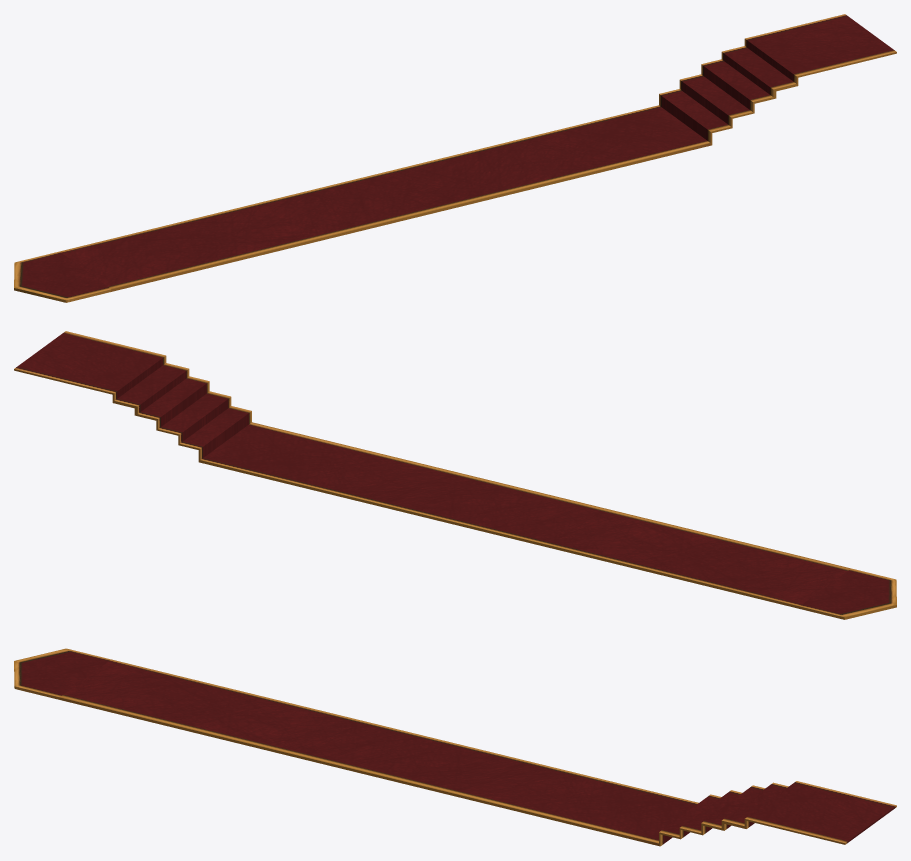
File: BD_Carpet.fbx
3 views of the same model, one above another, from view 1: azimuth 30°, elevation 25°; view 2: azimuth 150°, elevation 25°; view 3: azimuth 330°, elevation 25° (orthographic).
Visible parts, largest first — view 1: BD_Carpet; view 2: BD_Carpet; view 3: BD_Carpet.
Boxes of the visible parts, x1,y1,x2,y2 form: BD_Carpet: (14,14,896,302); BD_Carpet: (14,331,896,619); BD_Carpet: (14,648,896,846).
Size of the model in its own units: 38.2 by 2.06 by 4.
